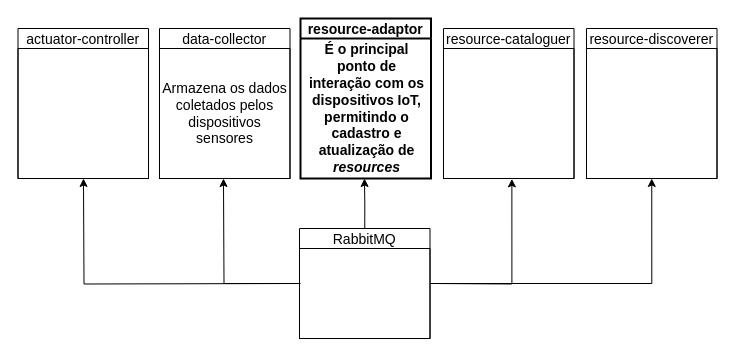
This 734x356 diagram has some shape labels left out. Each missing label, with the centre of its shape:
"Fornece um serviço de pesquisa de resources" belongs at pixel 651 113.
"Mantém o catálogo de todos os resources" belongs at pixel 508 113.
"Permite o envio de comandos aos dispositivos atuadores" belongs at pixel 82 113.
"Realiza a comunicação entre os microserviços usando o protocolo AMQP" belongs at pixel 364 293.
